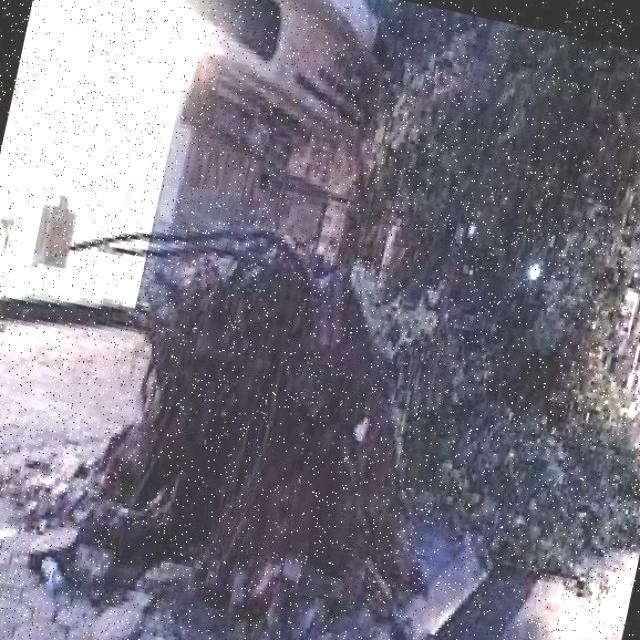fallen_object: (51, 149, 640, 640)
